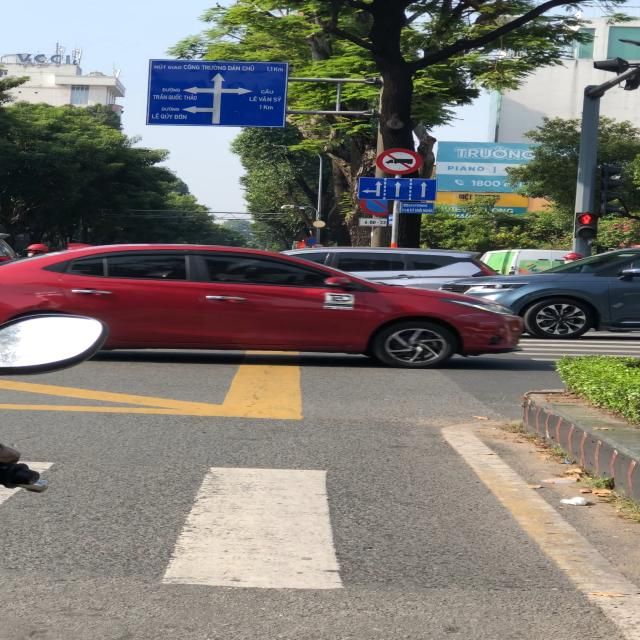Bien bao cam xe so-mi ro-mooc: (374, 146, 424, 176)
